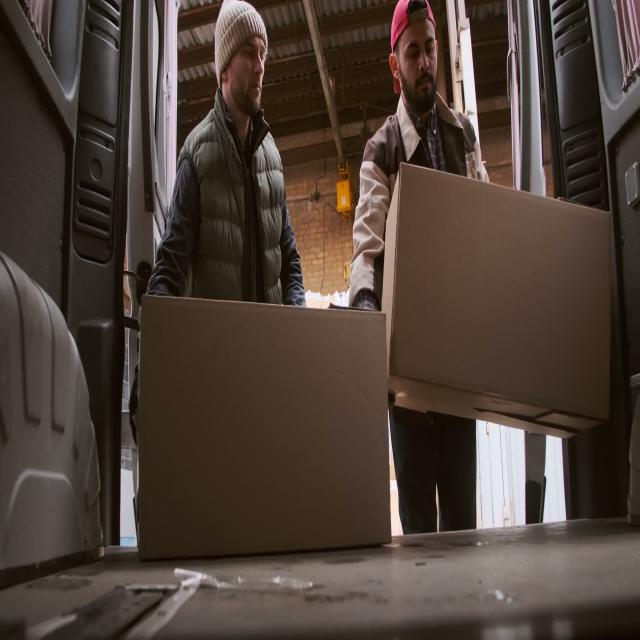counting-the-number-of-boxes: (138, 297, 392, 563), (382, 162, 611, 443)
